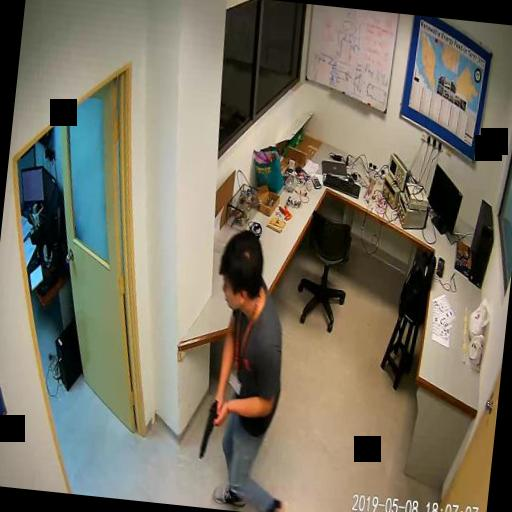Handgun: (197, 396, 218, 460)
